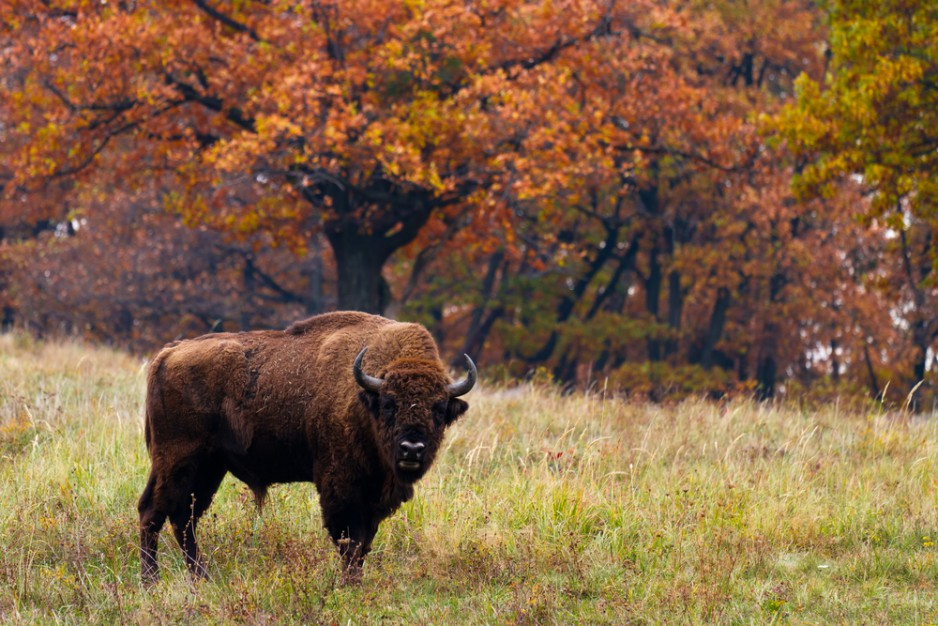zubr: (103, 300, 500, 586)
